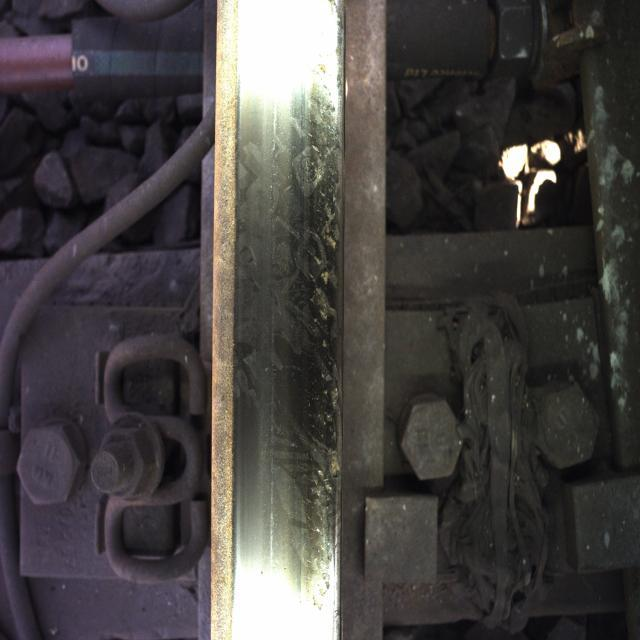crack: (262, 109, 340, 564)
